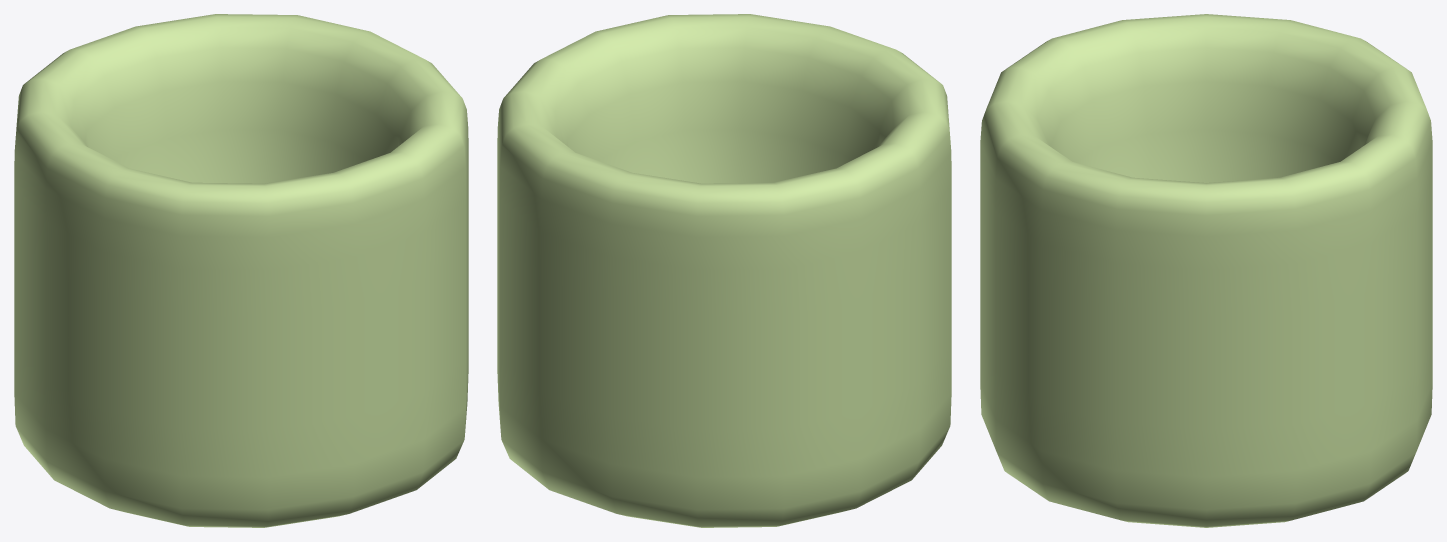
File: pot.fbx
3 views of the same model, side by side, from view 1: azimuth 30°, elevation 25°; view 2: azimuth 150°, elevation 25°; view 3: azimuth 270°, elevation 25° (orthographic).
Visible parts, largest first — view 1: Cube.006; view 2: Cube.006; view 3: Cube.006.
Boxes of the visible parts, x1,y1,x2,y2 form: Cube.006: (14, 14, 468, 527); Cube.006: (497, 14, 951, 527); Cube.006: (980, 14, 1432, 527).
Size of the model in its own units: 121 by 105 by 121.
